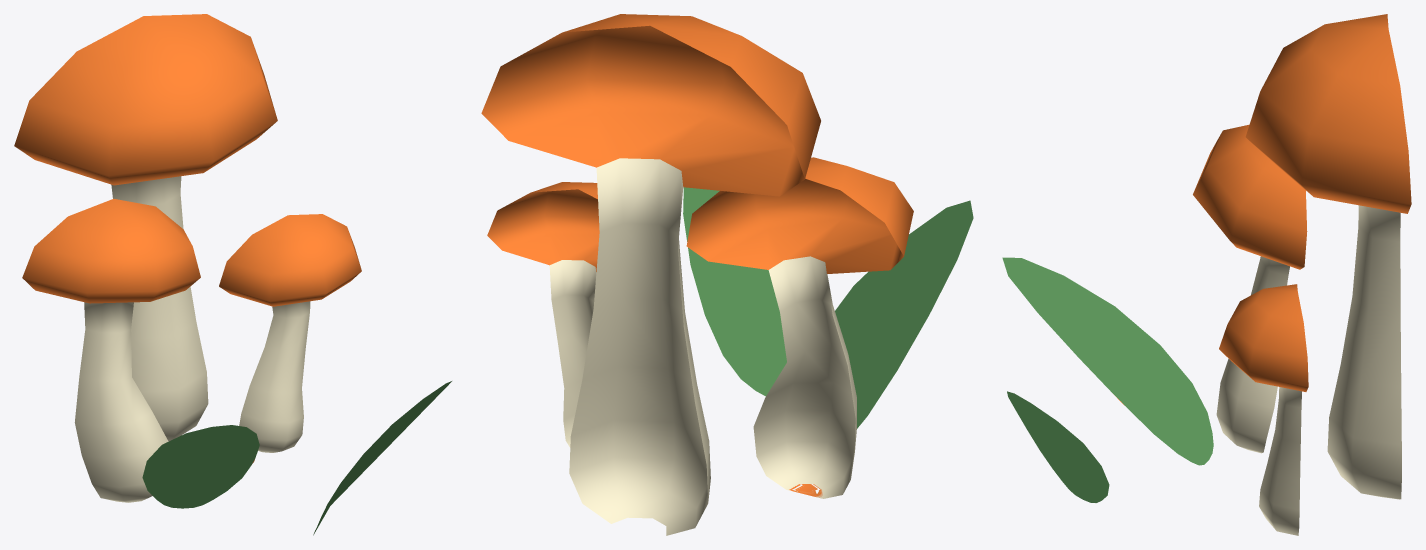
File: Setas.fbx
3 views of the same model, side by side, from view 1: azimuth 30°, elevation 25°; view 2: azimuth 150°, elevation 25°; view 3: azimuth 270°, elevation 25° (orthographic). The views are drawn at different scales.
Visible parts, largest first — view 1: Hongos; view 2: Hongos; view 3: Hongos.
Boxes of the visible parts, x1,y1,x2,y2 form: Hongos: (14, 14, 451, 535); Hongos: (481, 14, 973, 535); Hongos: (1002, 14, 1411, 535).
Size of the model in its own units: 104 by 123 by 100.
